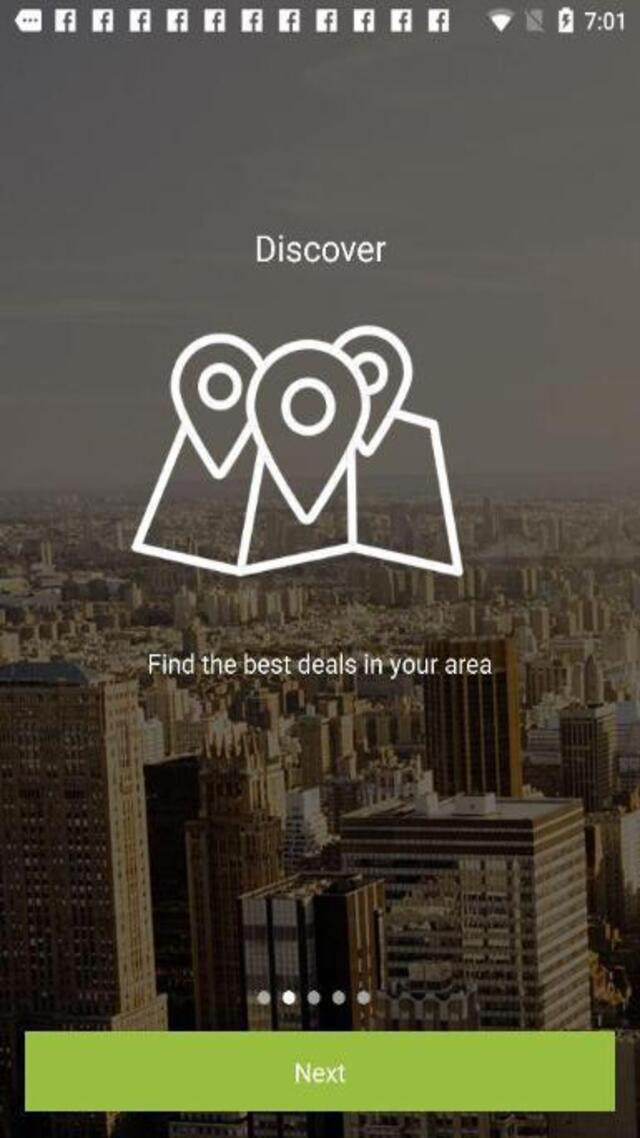Image: (132, 324, 464, 576)
Text: (144, 651, 494, 680), (256, 234, 386, 264), (290, 1058, 348, 1088)
TextButton: (25, 1032, 613, 1110)
